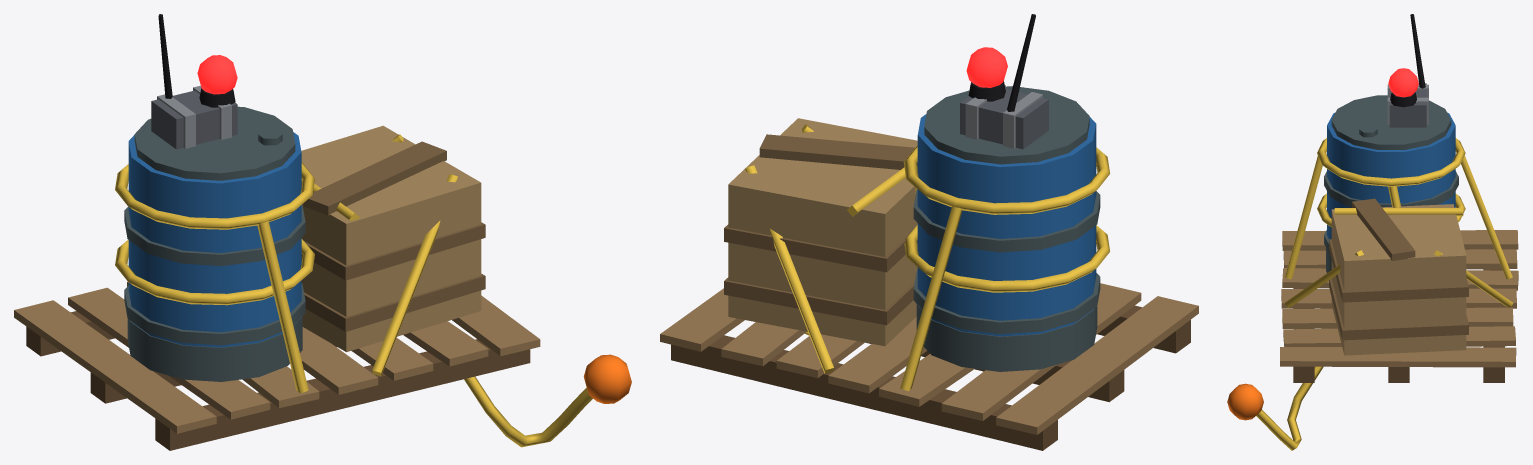
File: rigged-crate.glb
3 views of the same model, side by side, from view 1: azimuth 30°, elevation 25°; view 2: azimuth 150°, elevation 25°; view 3: azimuth 270°, elevation 25° (orthographic). The views are drawn at different scales.
Visible parts, largest first — view 1: Mesh_Crate, Mesh_Drum, Mesh_Slat0, Mesh_RunnerS, Mesh_DrumLid, Mesh_DrumGrime, Mesh_Slat1, Mesh_CrateLidPlank, Mesh_LashDrumU, Mesh_Slat3, Mesh_LashDrumL, Mesh_CrateBandL (+16 smaller); view 2: Mesh_Crate, Mesh_Drum, Mesh_Slat0, Mesh_RunnerP, Mesh_DrumGrime, Mesh_DrumLid, Mesh_Slat1, Mesh_CrateLidPlank, Mesh_LashDrumU, Mesh_Slat3, Mesh_LashDrumL, Mesh_CrateBandL (+17 smaller); view 3: Mesh_Crate, Mesh_Drum, Mesh_Slat6, Mesh_DrumLid, Mesh_Slat5, Mesh_Slat4, Mesh_CrateLidPlank, Mesh_CrateBandL, Mesh_Slat0, Mesh_CrateBandU, Mesh_Slat3, Mesh_Slat1 (+17 smaller).
Boxes of the visible parts, x1=… form: Mesh_Crate: x1=301, y1=125, x2=481, y2=352; Mesh_Drum: x1=128, y1=132, x2=301, y2=347; Mesh_Slat0: x1=14, y1=300, x2=216, y2=433; Mesh_RunnerS: x1=155, y1=339, x2=530, y2=450; Mesh_DrumLid: x1=134, y1=106, x2=295, y2=180; Mesh_DrumGrime: x1=127, y1=316, x2=302, y2=381; Mesh_Slat1: x1=68, y1=287, x2=270, y2=419; Mesh_CrateLidPlank: x1=303, y1=141, x2=446, y2=215; Mesh_LashDrumU: x1=115, y1=163, x2=314, y2=229; Mesh_Slat3: x1=300, y1=327, x2=378, y2=394; Mesh_LashDrumL: x1=115, y1=239, x2=314, y2=305; Mesh_CrateBandL: x1=304, y1=273, x2=485, y2=331; Mesh_Crate: x1=728, y1=118, x2=917, y2=346; Mesh_Drum: x1=917, y1=114, x2=1096, y2=336; Mesh_Slat0: x1=996, y1=296, x2=1198, y2=434; Mesh_RunnerP: x1=671, y1=335, x2=1057, y2=450; Mesh_DrumGrime: x1=916, y1=304, x2=1097, y2=371; Mesh_DrumLid: x1=924, y1=86, x2=1089, y2=164; Mesh_Slat1: x1=941, y1=283, x2=1141, y2=420; Mesh_CrateLidPlank: x1=759, y1=134, x2=917, y2=169; Mesh_LashDrumU: x1=903, y1=145, x2=1110, y2=214; Mesh_Slat3: x1=828, y1=317, x2=926, y2=393; Mesh_LashDrumL: x1=904, y1=225, x2=1109, y2=292; Mesh_CrateBandL: x1=724, y1=277, x2=914, y2=325; Mesh_Crate: x1=1331, y1=204, x2=1466, y2=355; Mesh_Drum: x1=1327, y1=112, x2=1455, y2=239; Mesh_Slat6: x1=1280, y1=347, x2=1516, y2=367; Mesh_DrumLid: x1=1331, y1=95, x2=1451, y2=149; Mesh_Slat5: x1=1283, y1=326, x2=1515, y2=346; Mesh_Slat4: x1=1282, y1=307, x2=1513, y2=328; Mesh_CrateLidPlank: x1=1352, y1=198, x2=1415, y2=260; Mesh_CrateBandL: x1=1329, y1=279, x2=1468, y2=340; Mesh_Slat0: x1=1282, y1=230, x2=1518, y2=250; Mesh_CrateBandU: x1=1329, y1=239, x2=1468, y2=302; Mesh_Slat3: x1=1281, y1=288, x2=1516, y2=308; Mesh_Slat1: x1=1283, y1=249, x2=1517, y2=269.
Size of the model in its own units: 2.39 by 2.35 by 1.9.
